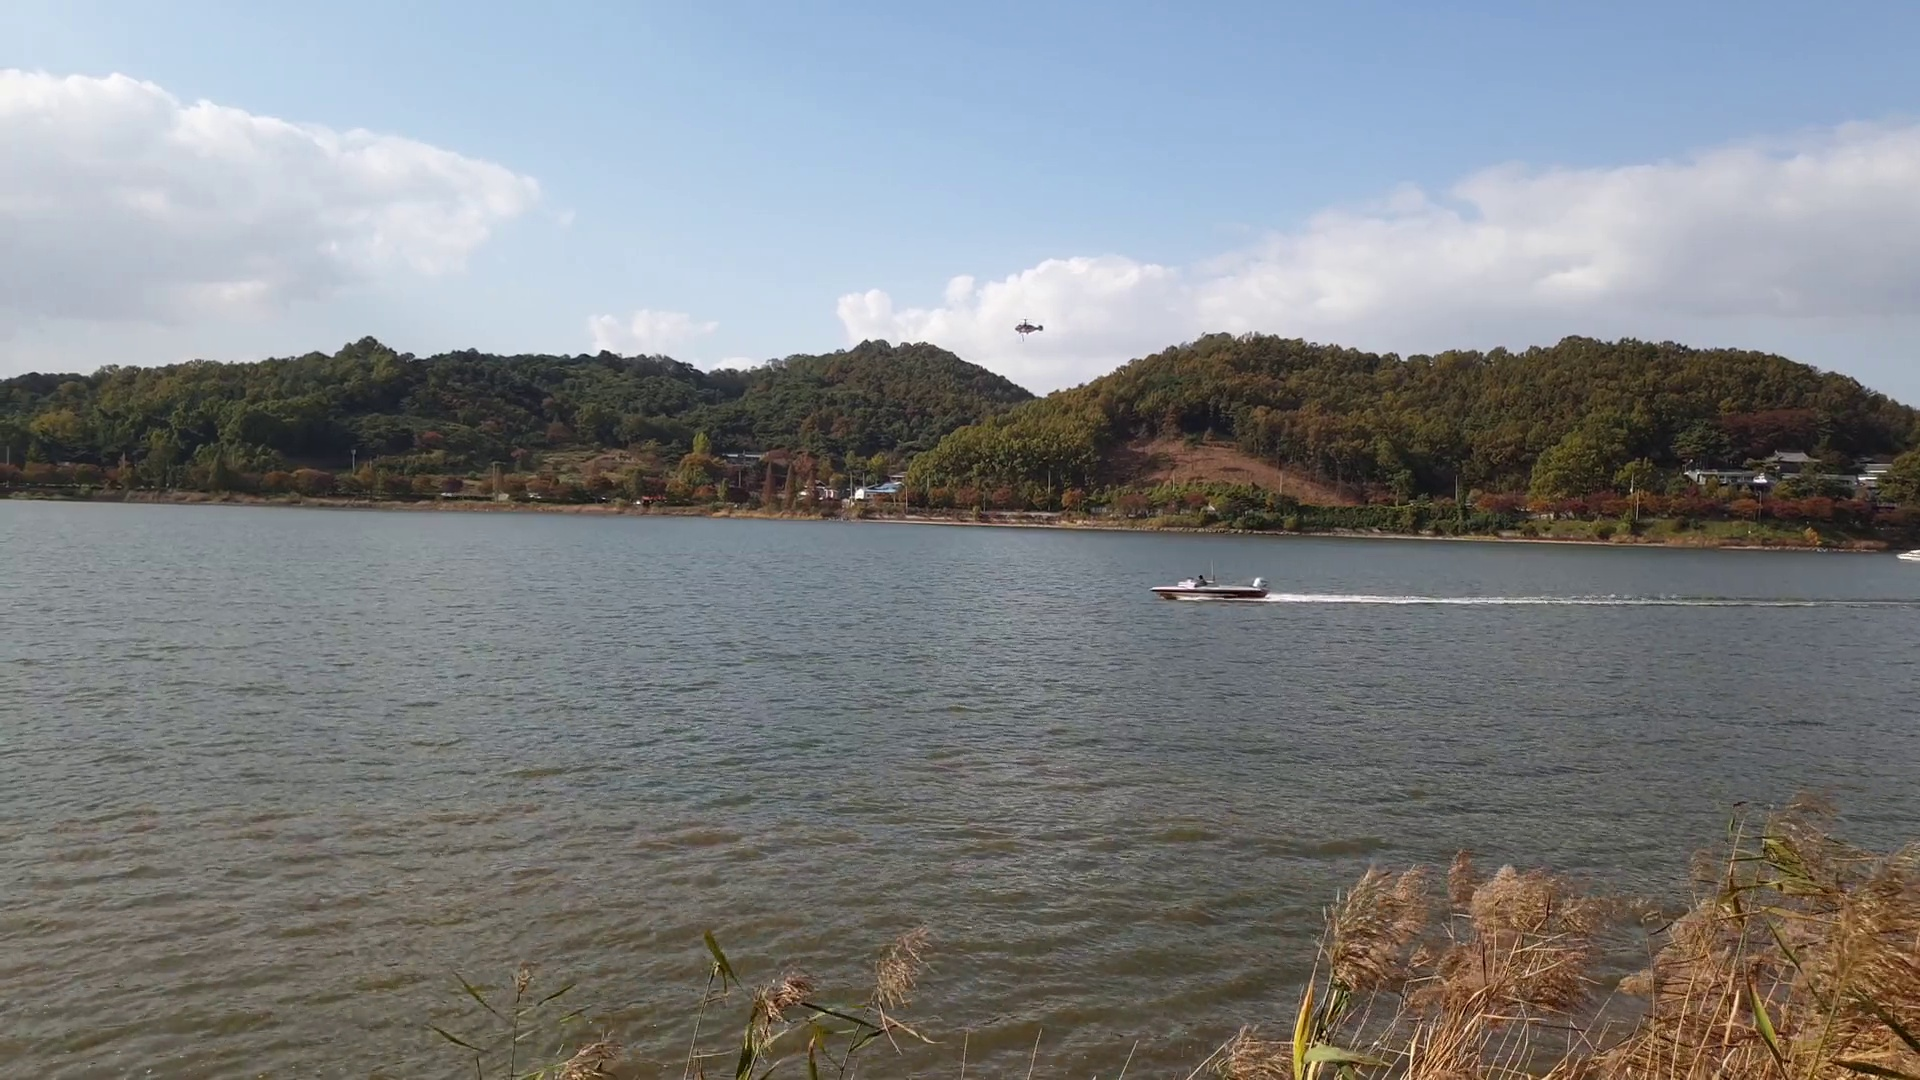heli: (1014, 318, 1042, 335)
